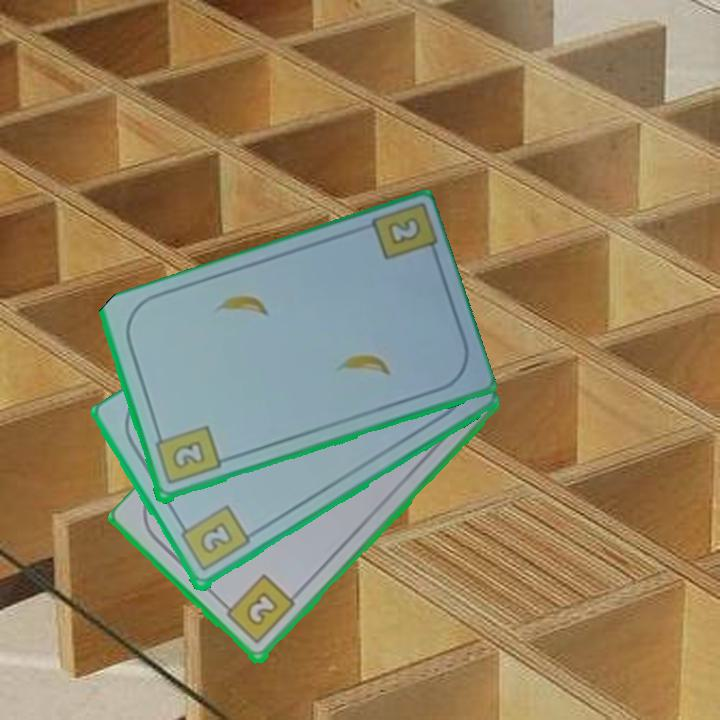2b: (218, 571, 298, 648), (175, 502, 253, 576), (151, 422, 223, 488), (387, 217, 421, 246)
